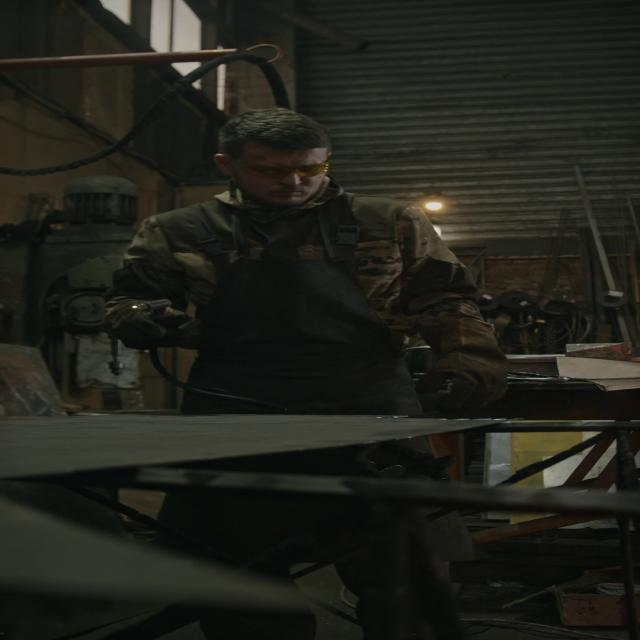gloved: (412, 317, 511, 413), (102, 297, 190, 350)
